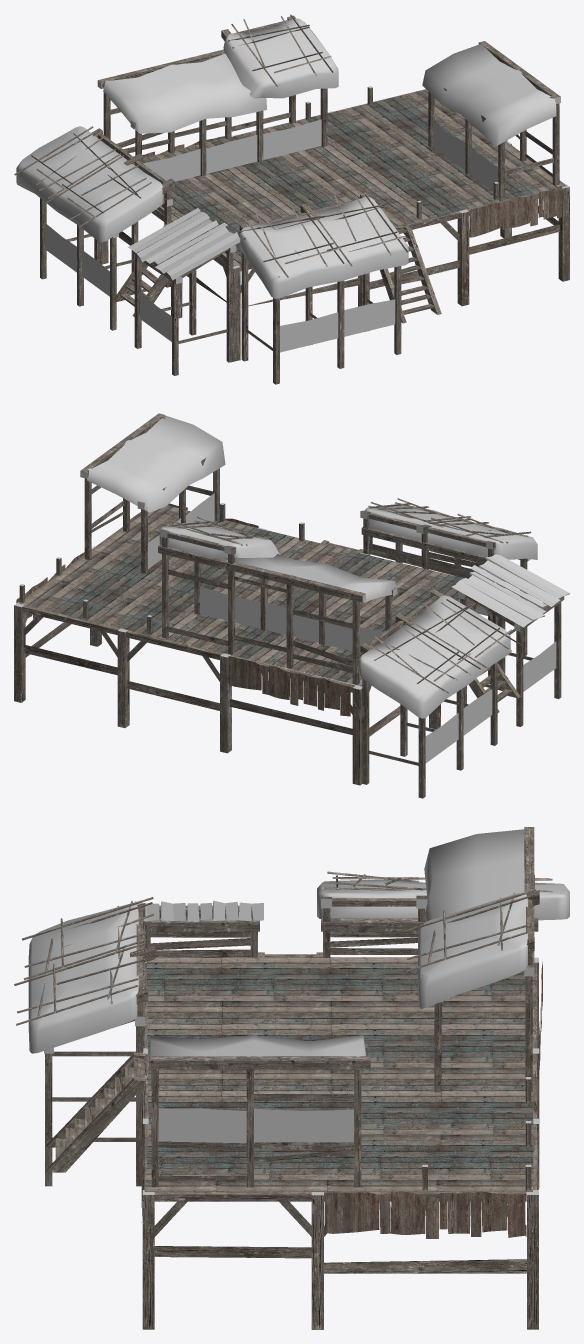
File: House3_LOD1.fbx
The picture shows the model from 3 angles, top to bottom: view 1: azimuth 30°, elevation 25°; view 2: azimuth 150°, elevation 25°; view 3: azimuth 270°, elevation 25°; orthographic projection. The views are drawn at different scales.
Parts seen in each view (by area): view 1: base, stairs1, stairs2; view 2: base, stairs2; view 3: base, stairs1.
Boxes of the visible parts, <box> form: base: <box>14,14,569,384</box>; stairs1: <box>380,225,441,323</box>; stairs2: <box>112,223,189,316</box>; base: <box>14,413,569,798</box>; stairs2: <box>468,663,520,712</box>; base: <box>14,827,569,1329</box>; stairs1: <box>46,1052,146,1172</box>.
Size of the model in its own units: 17.61 by 8.2 by 13.71.
